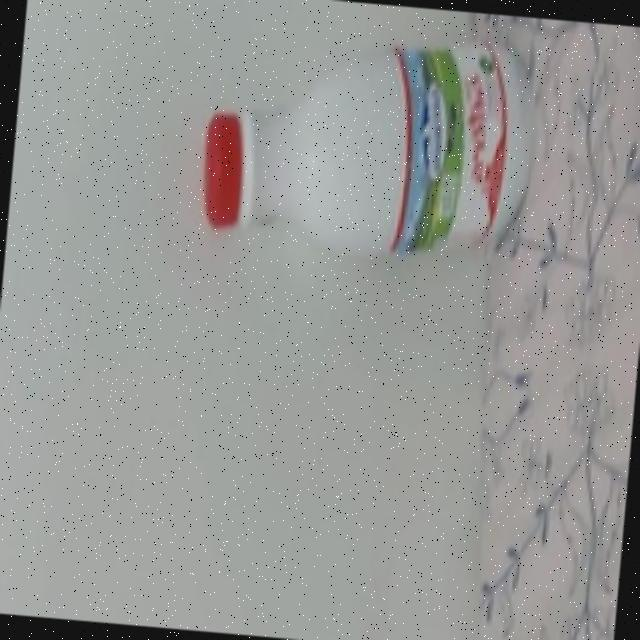bottle: (178, 12, 592, 284)
cap: (193, 107, 260, 235)
label: (379, 32, 514, 262)
